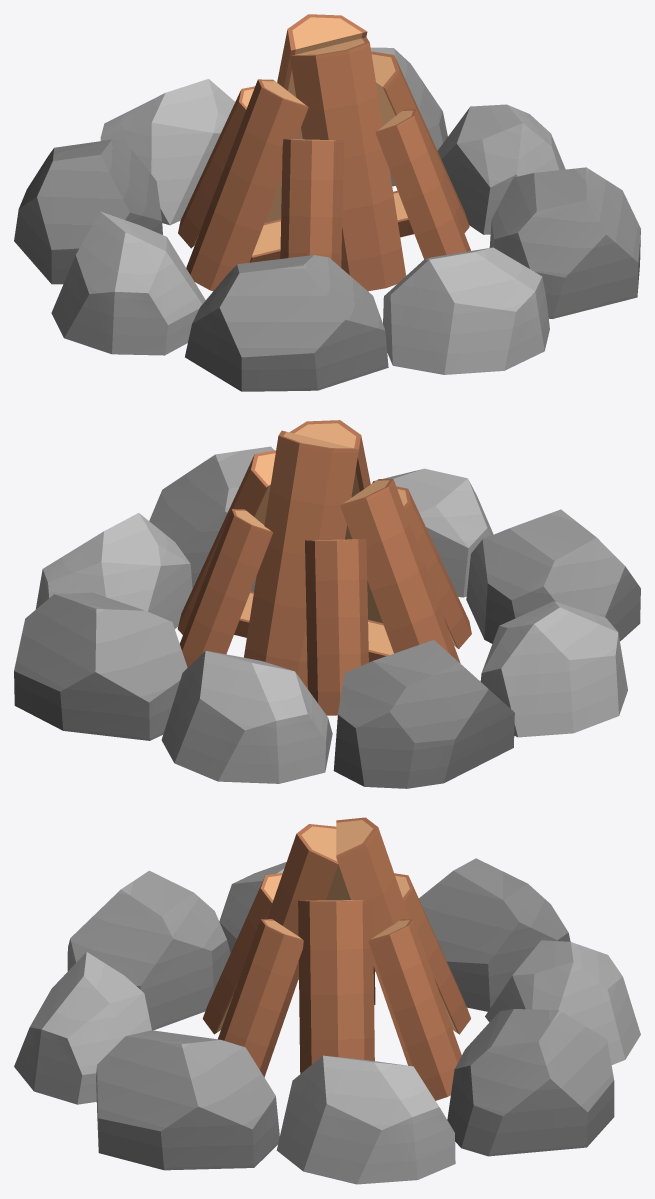
File: bonfire.glb
The picture shows the model from 3 angles, top to bottom: view 1: azimuth 30°, elevation 25°; view 2: azimuth 150°, elevation 25°; view 3: azimuth 270°, elevation 25°; orthographic projection.
Visible parts, largest first — view 1: bonfire; view 2: bonfire; view 3: bonfire.
Part boxes in pixels (<box>): bonfire: <box>14,14,640,391</box>; bonfire: <box>14,420,640,788</box>; bonfire: <box>14,817,640,1184</box>.
Bounding box in the file's own units: 2.57 × 1.05 × 2.58.
Materials: 1 (1 with a texture image).
